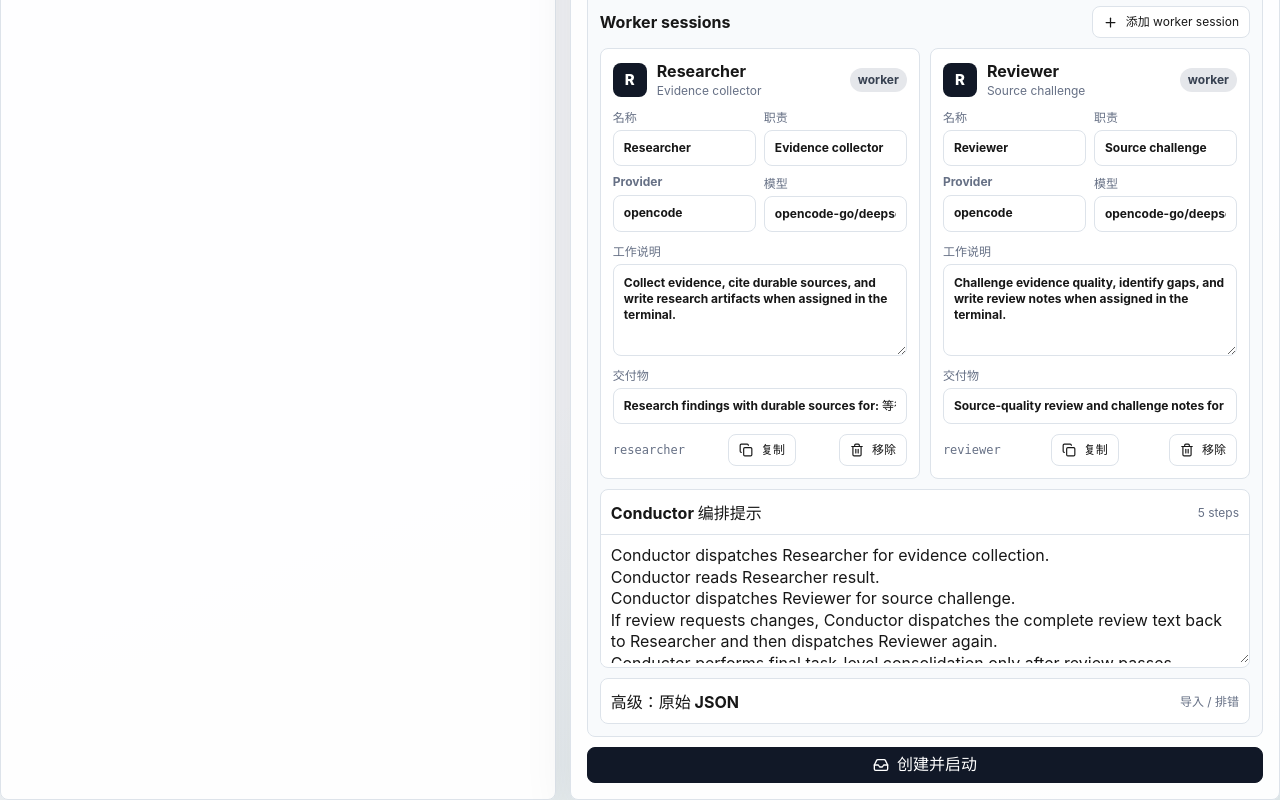
Test: TaskBoard Task Home › duplicates a worker session from the card editor
(page scrolled)
What coordinates should you click on to do the following:
click the 1st button "复制"
I would click on:
 (762, 450)
Its box is [728,434,796,466].
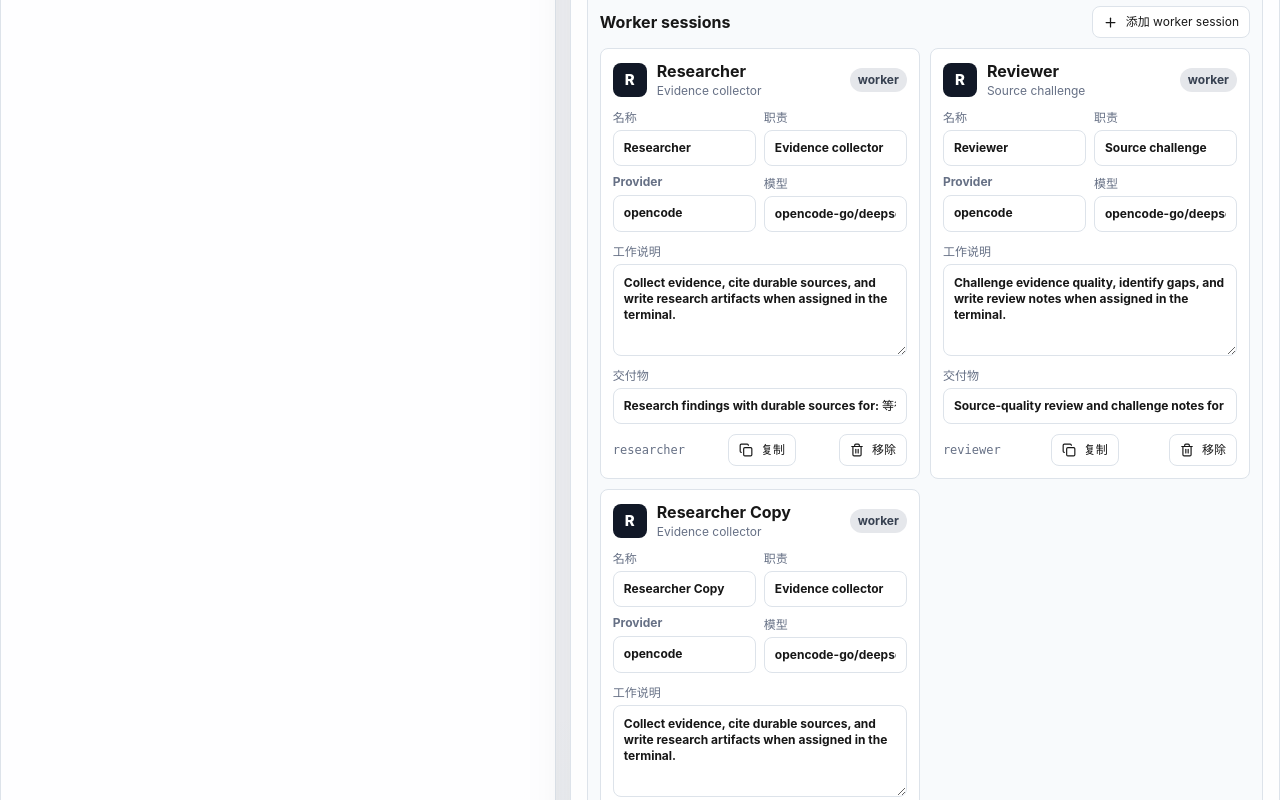
Expected: the field named "Worker 3 名称" holds "Researcher Copy", [613,571,756,607]
Expected: the field named "Worker 3 职责" holds "Evidence collector", [764,571,907,607]
